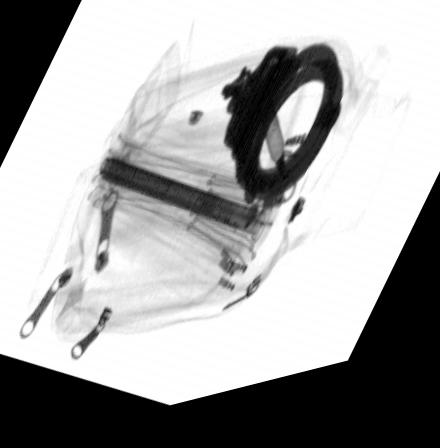Bullet: (258, 105, 286, 195)
HandCuffs: (219, 57, 347, 218)
